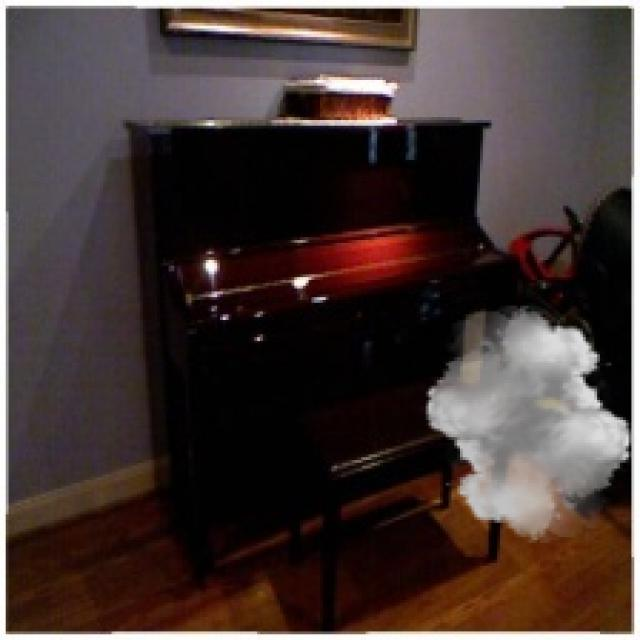smoke: (417, 306, 637, 546)
